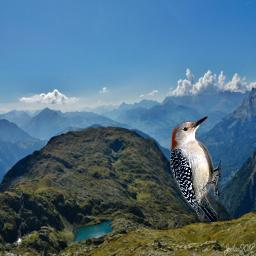Woodpecker: (170, 116, 221, 221)
